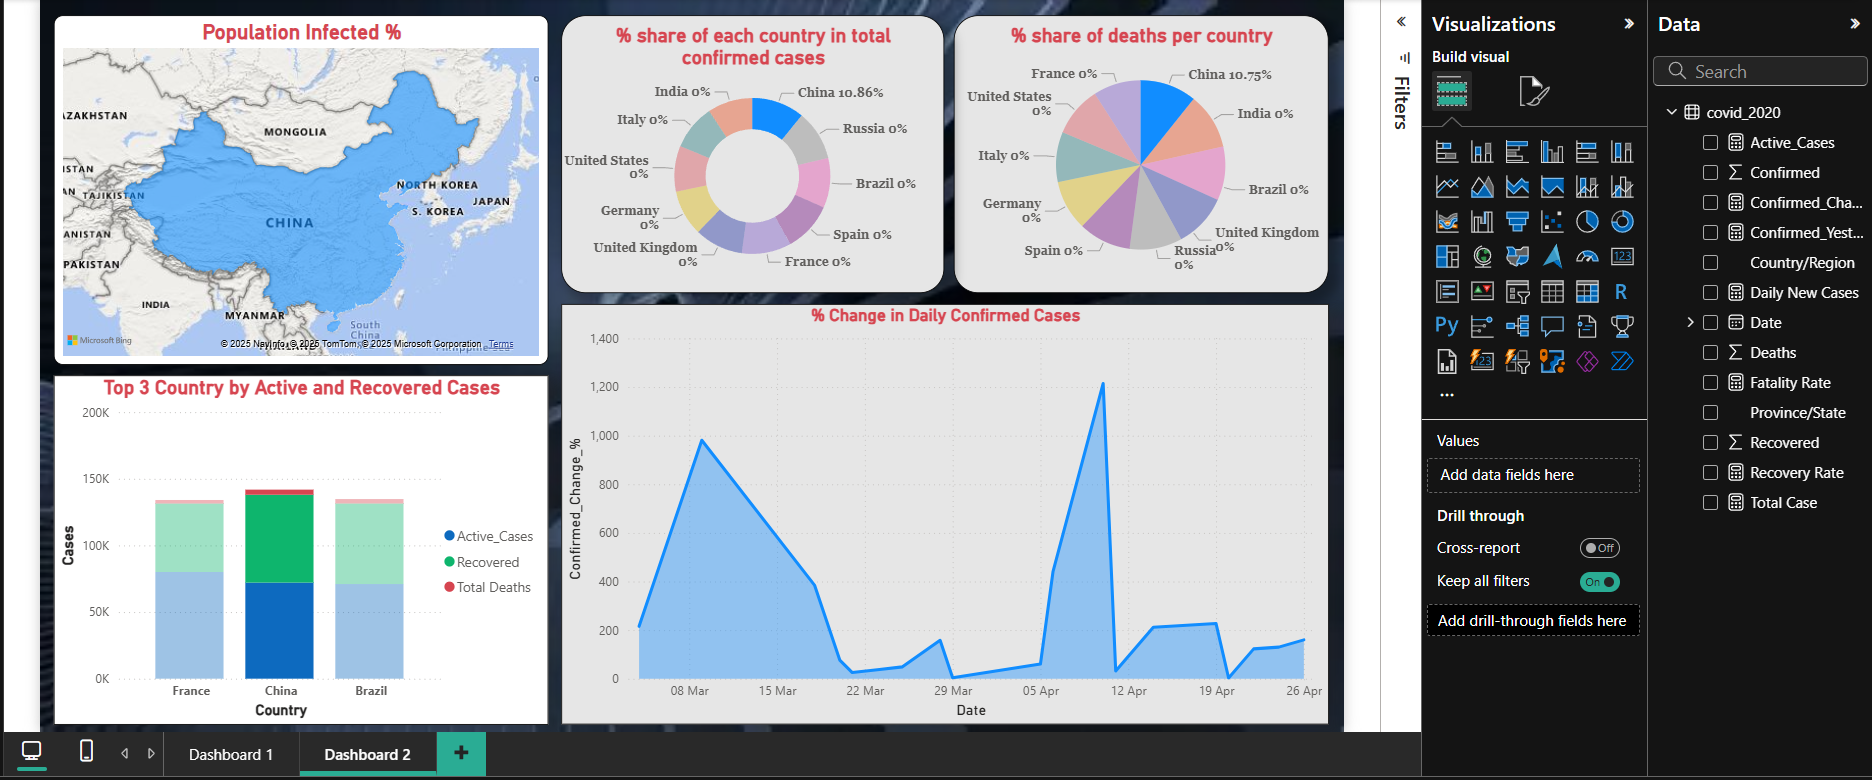

Layout of this report page (visuals, bound fields, positions):
{"tool":"powerbi","page":{"name":"Dashboard 2","canvas":[1280,720],"ordinal":1},"visuals":[{"type":"filledMap","title":"Population Infected %","fields":{"Category":["covid_2020.Country/Region"],"Series":["covid_2020.Country/Region"]},"box":[13.7,16.5,485.8,343.1],"z":0},{"type":"columnChart","title":"Top 3 Country by Active and Recovered Cases","fields":{"Category":["covid_2020.Country/Region"],"Y":["covid_2020.Active_Cases","Sum(covid_2020.Recovered)","Sum(covid_2020.Deaths)"]},"box":[13.7,369.1,485.8,343.1],"z":1000},{"type":"pieChart","title":"% share of deaths per country","fields":{"Y":["Count(covid_2020.Deaths)"],"Category":["covid_2020.Country/Region"]},"box":[897.4,16.5,367.8,273.1],"z":2000},{"type":"donutChart","title":"% share of each country in total confirmed cases","fields":{"Y":["Sum(covid_2020.Confirmed)"],"Category":["covid_2020.Country/Region"]},"box":[511.8,16.5,376,273.1],"z":3000},{"type":"lineChart","title":"% Change in Daily Confirmed Cases","fields":{"Y":["covid_2020.Confirmed_Change_%"],"Category":["covid_2020.Date"]},"box":[511.8,299.1,753.3,413],"z":3001}]}

Visuals, with their boxes on the page's 1280x720 design canvas (x1, y1, x2, y2). These are canvas units, not pixel positions in the 1872x780 screenshot, which may show the page scaled, cropped or inside an application window:
"Population Infected %" filledMap: locate(14, 16, 500, 360)
"Top 3 Country by Active and Recovered Cases" columnChart: locate(14, 369, 500, 712)
"% share of deaths per country" pieChart: locate(897, 16, 1265, 290)
"% share of each country in total confirmed cases" donutChart: locate(512, 16, 888, 290)
"% Change in Daily Confirmed Cases" lineChart: locate(512, 299, 1265, 712)
